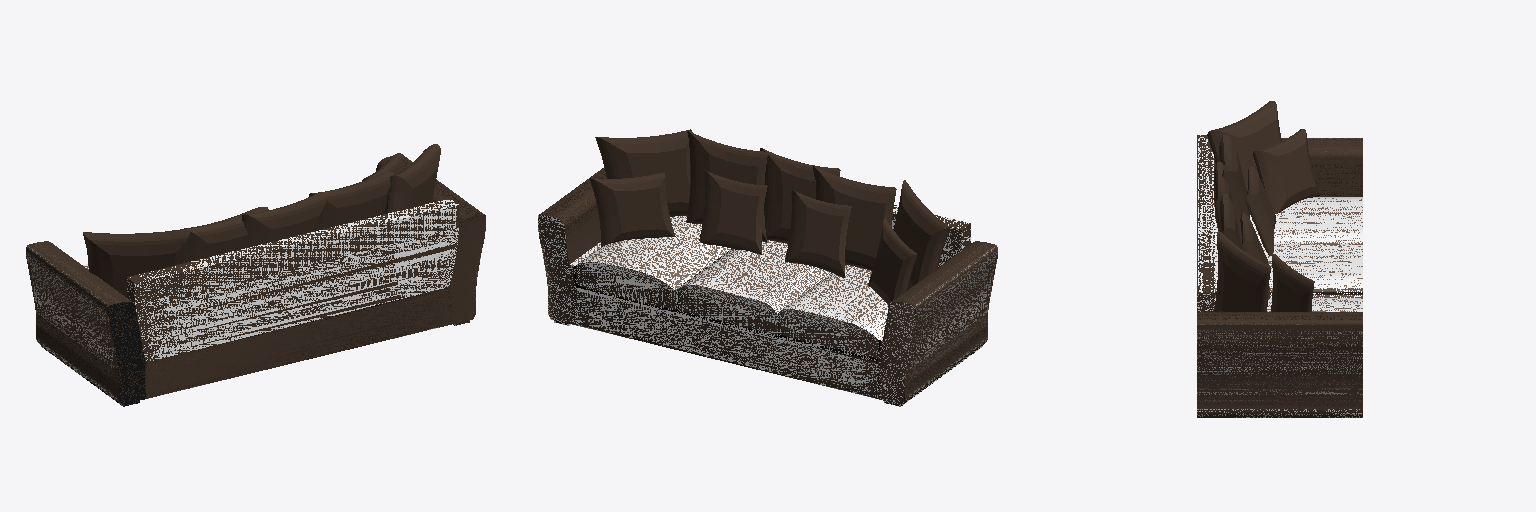
3 renders of one model, left to right at view 1: azimuth 30°, elevation 25°; view 2: azimuth 150°, elevation 25°; view 3: azimuth 270°, elevation 25°, orthographic.
Visible parts, largest first — view 1: mesh2_mesh2-geometry, mesh1_mesh1-geometry; view 2: mesh2_mesh2-geometry, mesh1_mesh1-geometry; view 3: mesh2_mesh2-geometry, mesh1_mesh1-geometry.
Boxes of the visible parts, box(x1,y1,x2,y2) form: mesh2_mesh2-geometry: box(26, 154, 485, 406); mesh1_mesh1-geometry: box(83, 144, 440, 297); mesh2_mesh2-geometry: box(538, 168, 997, 406); mesh1_mesh1-geometry: box(589, 129, 950, 305); mesh2_mesh2-geometry: box(1197, 135, 1362, 417); mesh1_mesh1-geometry: box(1207, 101, 1319, 311).
Size of the model in its own units: 0.8771 by 0.3474 by 0.3317.
5 materials, 1 textured.